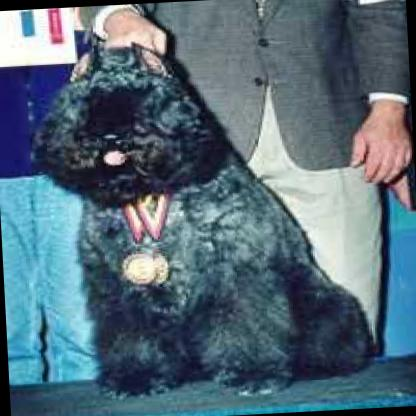Bouvier_des_Flandres: (25, 31, 376, 408)
